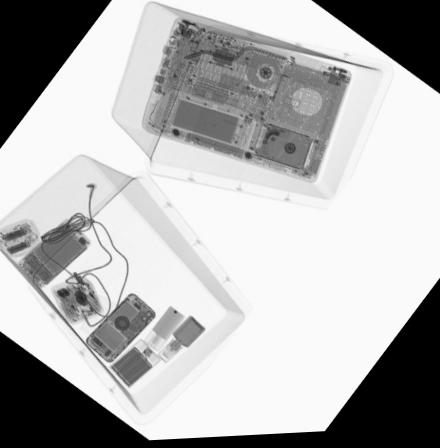Powerbank: (105, 338, 162, 390)
